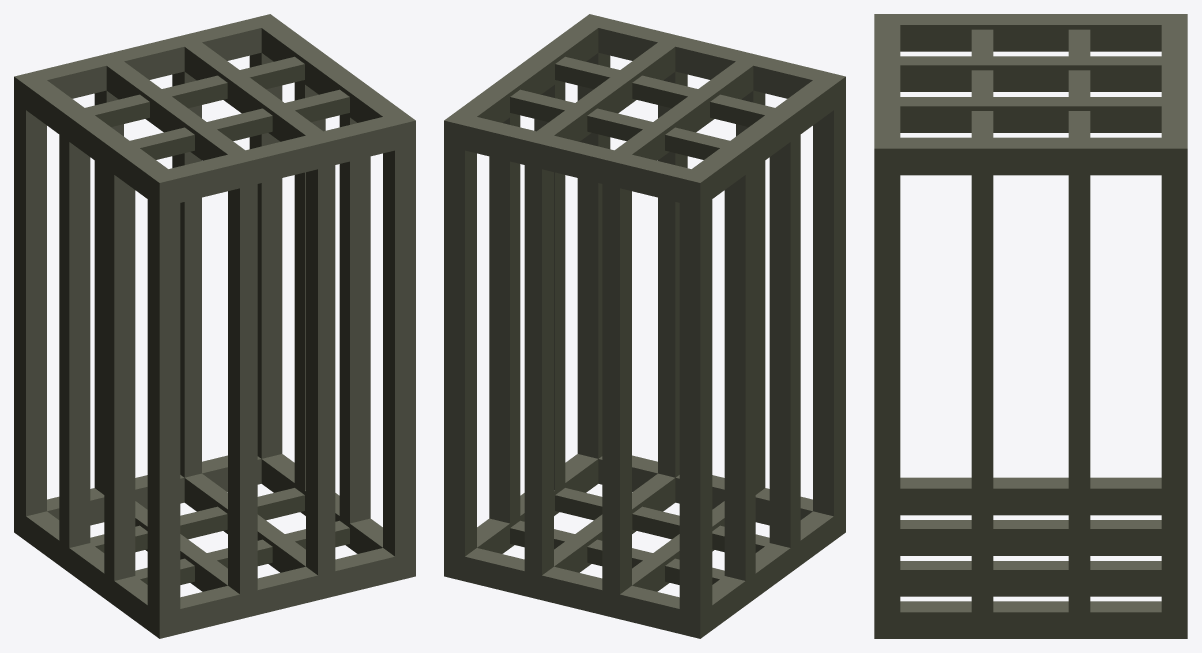
Rendered from Model_Undead_1x1B.fbx.
3 renders of one model, left to right at view 1: azimuth 30°, elevation 25°; view 2: azimuth 150°, elevation 25°; view 3: azimuth 270°, elevation 25°, orthographic. The views are drawn at different scales.
Visible parts, largest first — view 1: Model_Frost_1x1B; view 2: Model_Frost_1x1B; view 3: Model_Frost_1x1B.
Boxes of the visible parts, x1,y1,x2,y2 form: Model_Frost_1x1B: (14, 14, 415, 638); Model_Frost_1x1B: (444, 14, 845, 638); Model_Frost_1x1B: (874, 14, 1187, 638).
Size of the model in its own units: 177 by 301 by 174.
1 material, 1 textured.
